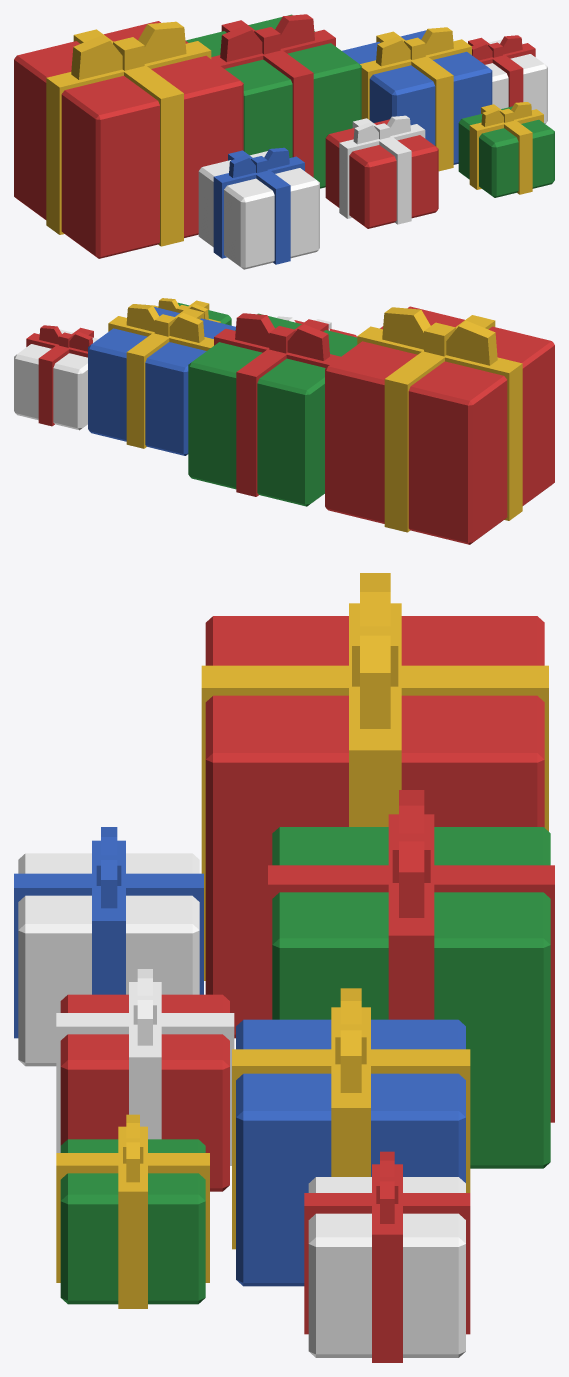
File: gifts-2x1.glb
3 views of the same model, one above another, from view 1: azimuth 30°, elevation 25°; view 2: azimuth 150°, elevation 25°; view 3: azimuth 270°, elevation 25° (orthographic). The views are drawn at different scales.
Parts seen in each view (by area): view 1: gifts-2x1; view 2: gifts-2x1; view 3: gifts-2x1.
Boxes of the visible parts, box(x1,y1,x2,y2) form: gifts-2x1: box(14, 14, 554, 269); gifts-2x1: box(14, 298, 554, 544); gifts-2x1: box(14, 573, 554, 1362).
Size of the model in its own units: 1.84 by 0.6534 by 0.9.
1 material, 1 textured.
